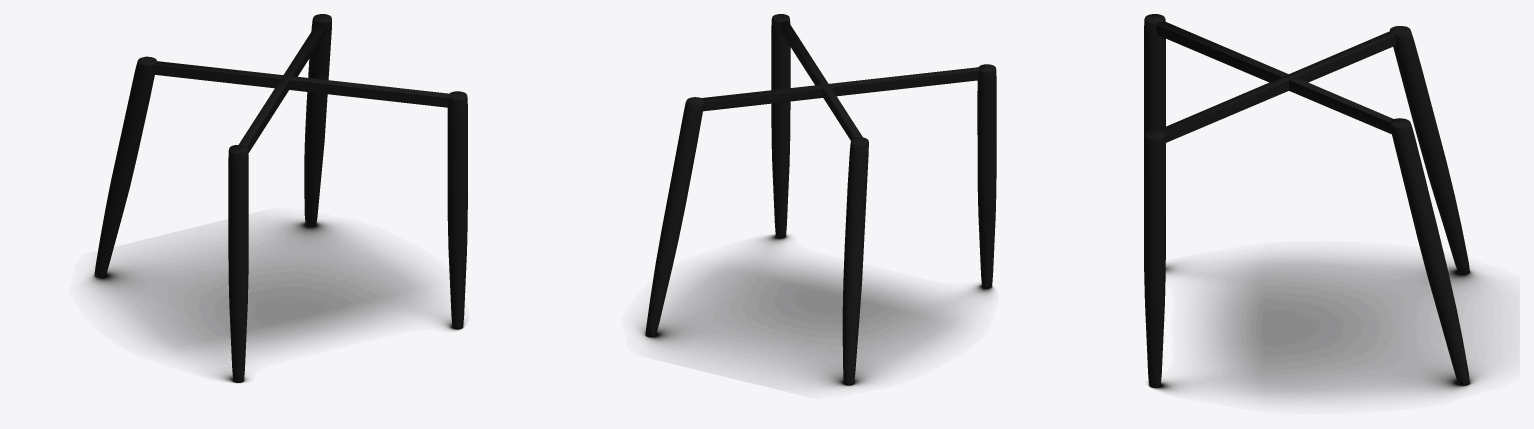
File: Regularne.glb
3 views of the same model, side by side, from view 1: azimuth 30°, elevation 25°; view 2: azimuth 150°, elevation 25°; view 3: azimuth 270°, elevation 25° (orthographic). The views are drawn at different scales.
Visible parts, largest first — view 1: Shadow_regilar, legs; view 2: Shadow_regilar, legs; view 3: Shadow_regilar, legs.
Part boxes in pixels (x1,y1,x2,y2): Shadow_regilar: (88, 219, 464, 383); legs: (94, 14, 467, 382); Shadow_regilar: (639, 234, 993, 387); legs: (645, 14, 996, 385); Shadow_regilar: (1148, 255, 1493, 399); legs: (1144, 14, 1469, 387).
Size of the model in its own units: 0.5956 by 0.4001 by 0.6133.
2 materials, 1 textured.
